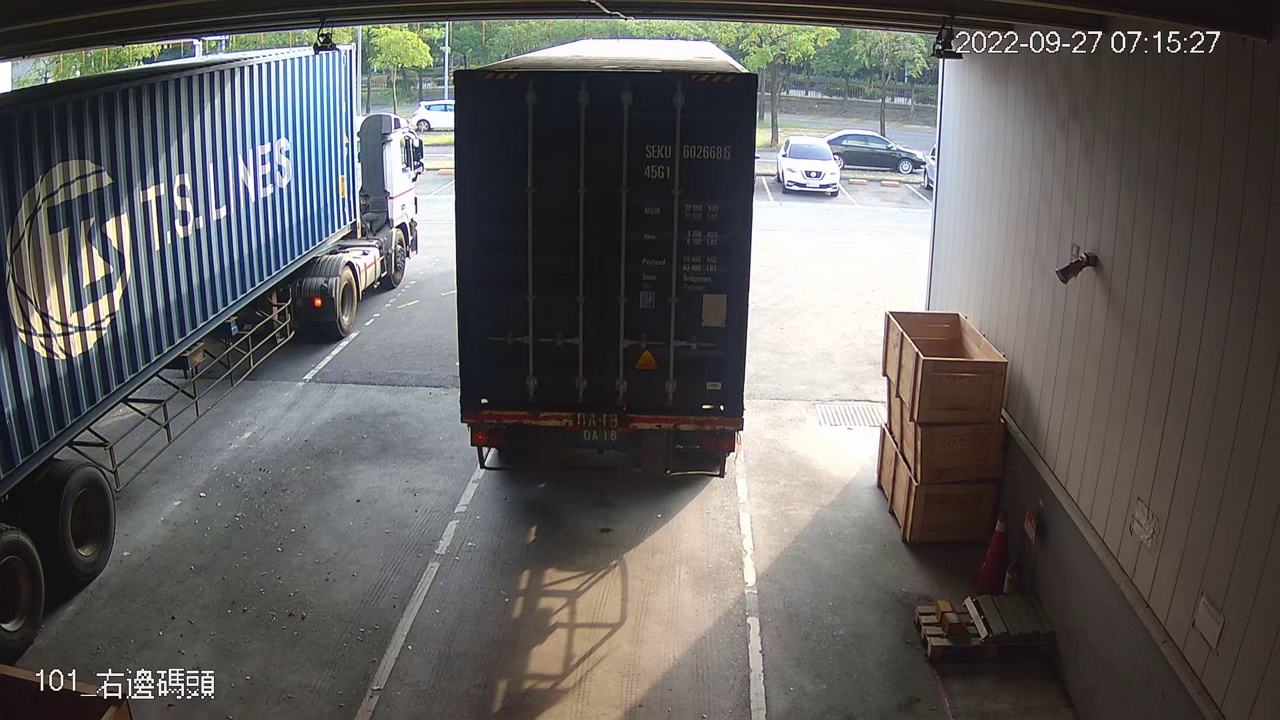container: (638, 137, 735, 185)
